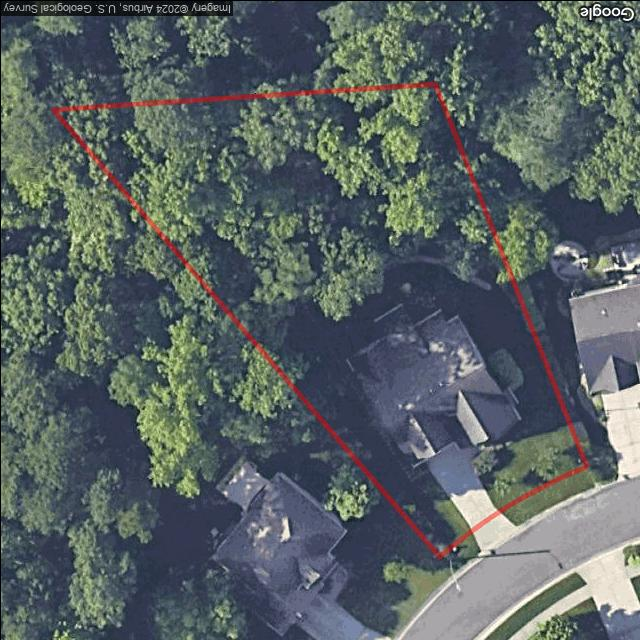Driveway: (423, 443, 497, 529)
Extra-Driveway: (471, 511, 515, 552)
Extra-Lawn: (496, 463, 593, 526), (437, 532, 478, 573)
House: (341, 302, 520, 470)
Lawn: (52, 84, 587, 555)
Other: (54, 83, 496, 348), (468, 366, 562, 477), (384, 253, 491, 288), (480, 346, 524, 408)
Sidewalk: (457, 436, 504, 458)
